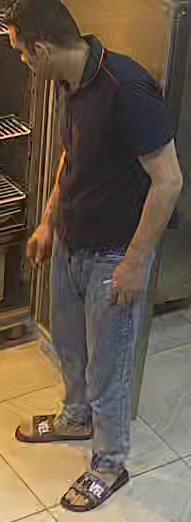no_apron: (12, 12, 140, 249)
